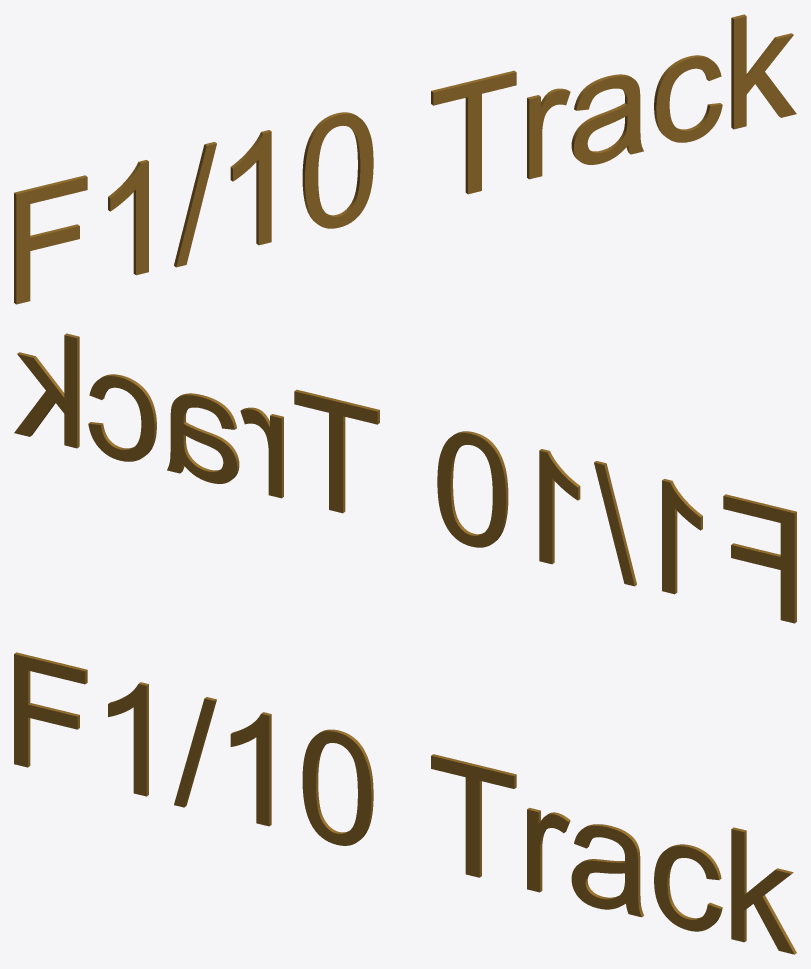
The picture shows the model from 3 angles, top to bottom: view 1: azimuth 30°, elevation 25°; view 2: azimuth 150°, elevation 25°; view 3: azimuth 330°, elevation 25°; orthographic projection.
Bounding box in the file's own units: 9.51 × 1.33 × 0.05.
